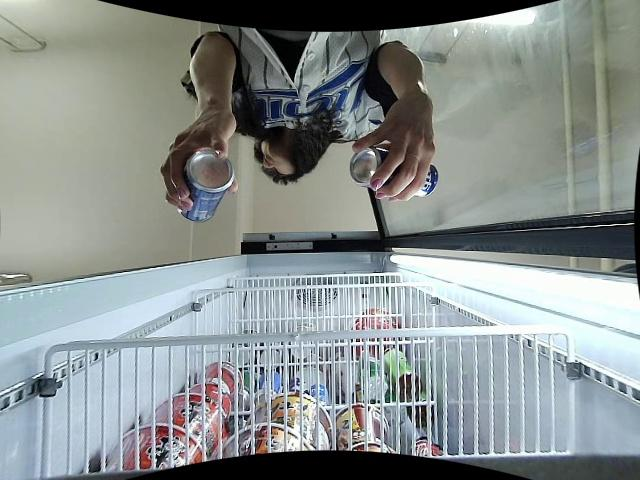00_hand: (353, 95, 435, 199), (161, 109, 240, 216)
16_hot6: (354, 148, 438, 200), (181, 151, 235, 227)
